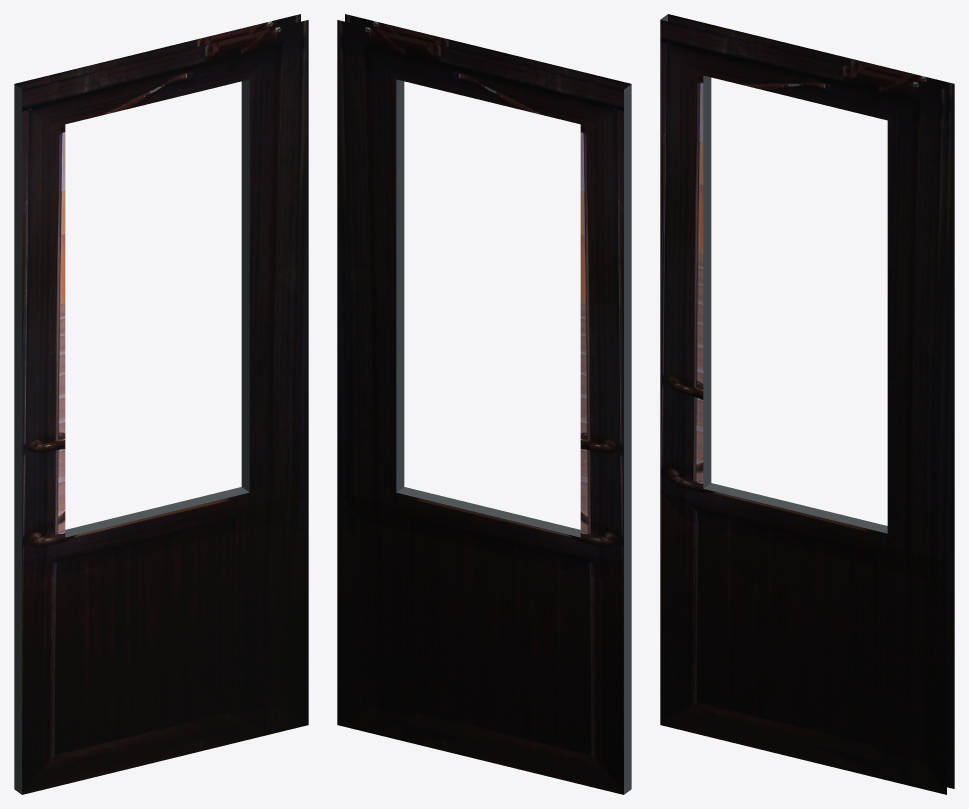
The model's file is stairs_l.glb.
3 views of the same model, side by side, from view 1: azimuth 30°, elevation 25°; view 2: azimuth 150°, elevation 25°; view 3: azimuth 330°, elevation 25° (orthographic).
Parts seen in each view (by area): view 1: Cube.003; view 2: Cube.003; view 3: Cube.003.
Boxes of the visible parts, box(x1,y1,x2,y2) form: Cube.003: box(14, 14, 308, 794); Cube.003: box(337, 14, 631, 794); Cube.003: box(660, 14, 954, 794).
Size of the model in its own units: 0.9305 by 2.19 by 0.0444.
Materials: 1 (1 with a texture image).
